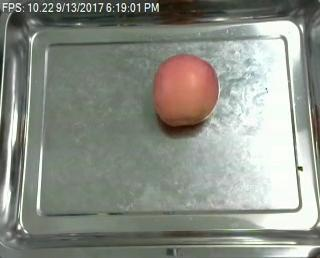apple: (152, 53, 220, 128)
